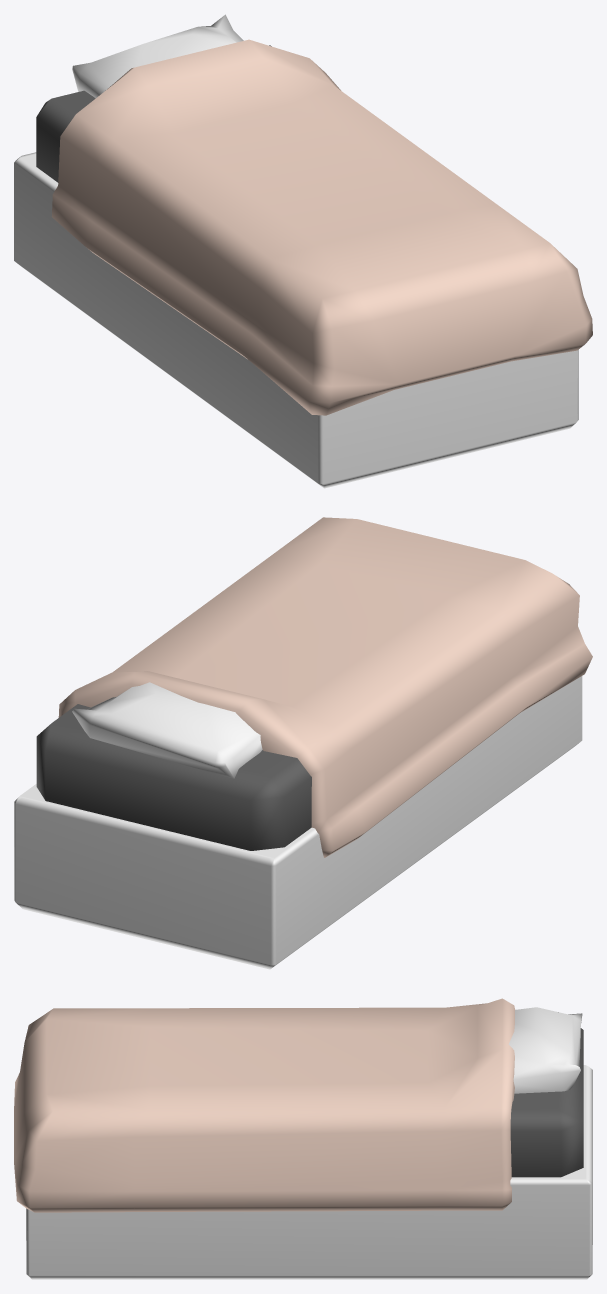
The model's file is bed_013.fbx.
3 views of the same model, one above another, from view 1: azimuth 30°, elevation 25°; view 2: azimuth 150°, elevation 25°; view 3: azimuth 270°, elevation 25° (orthographic). The views are drawn at different scales.
Visible parts, largest first — view 1: bed_013; view 2: bed_013; view 3: bed_013.
Boxes of the visible parts, x1,y1,x2,y2 form: bed_013: (14, 14, 592, 488); bed_013: (14, 517, 592, 969); bed_013: (14, 998, 592, 1279).
Bounding box in the file's own units: 130 × 247 × 95.79.
